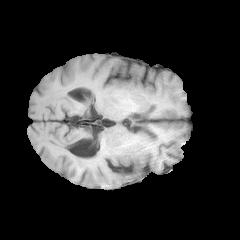glioma: (76, 137, 158, 177)
